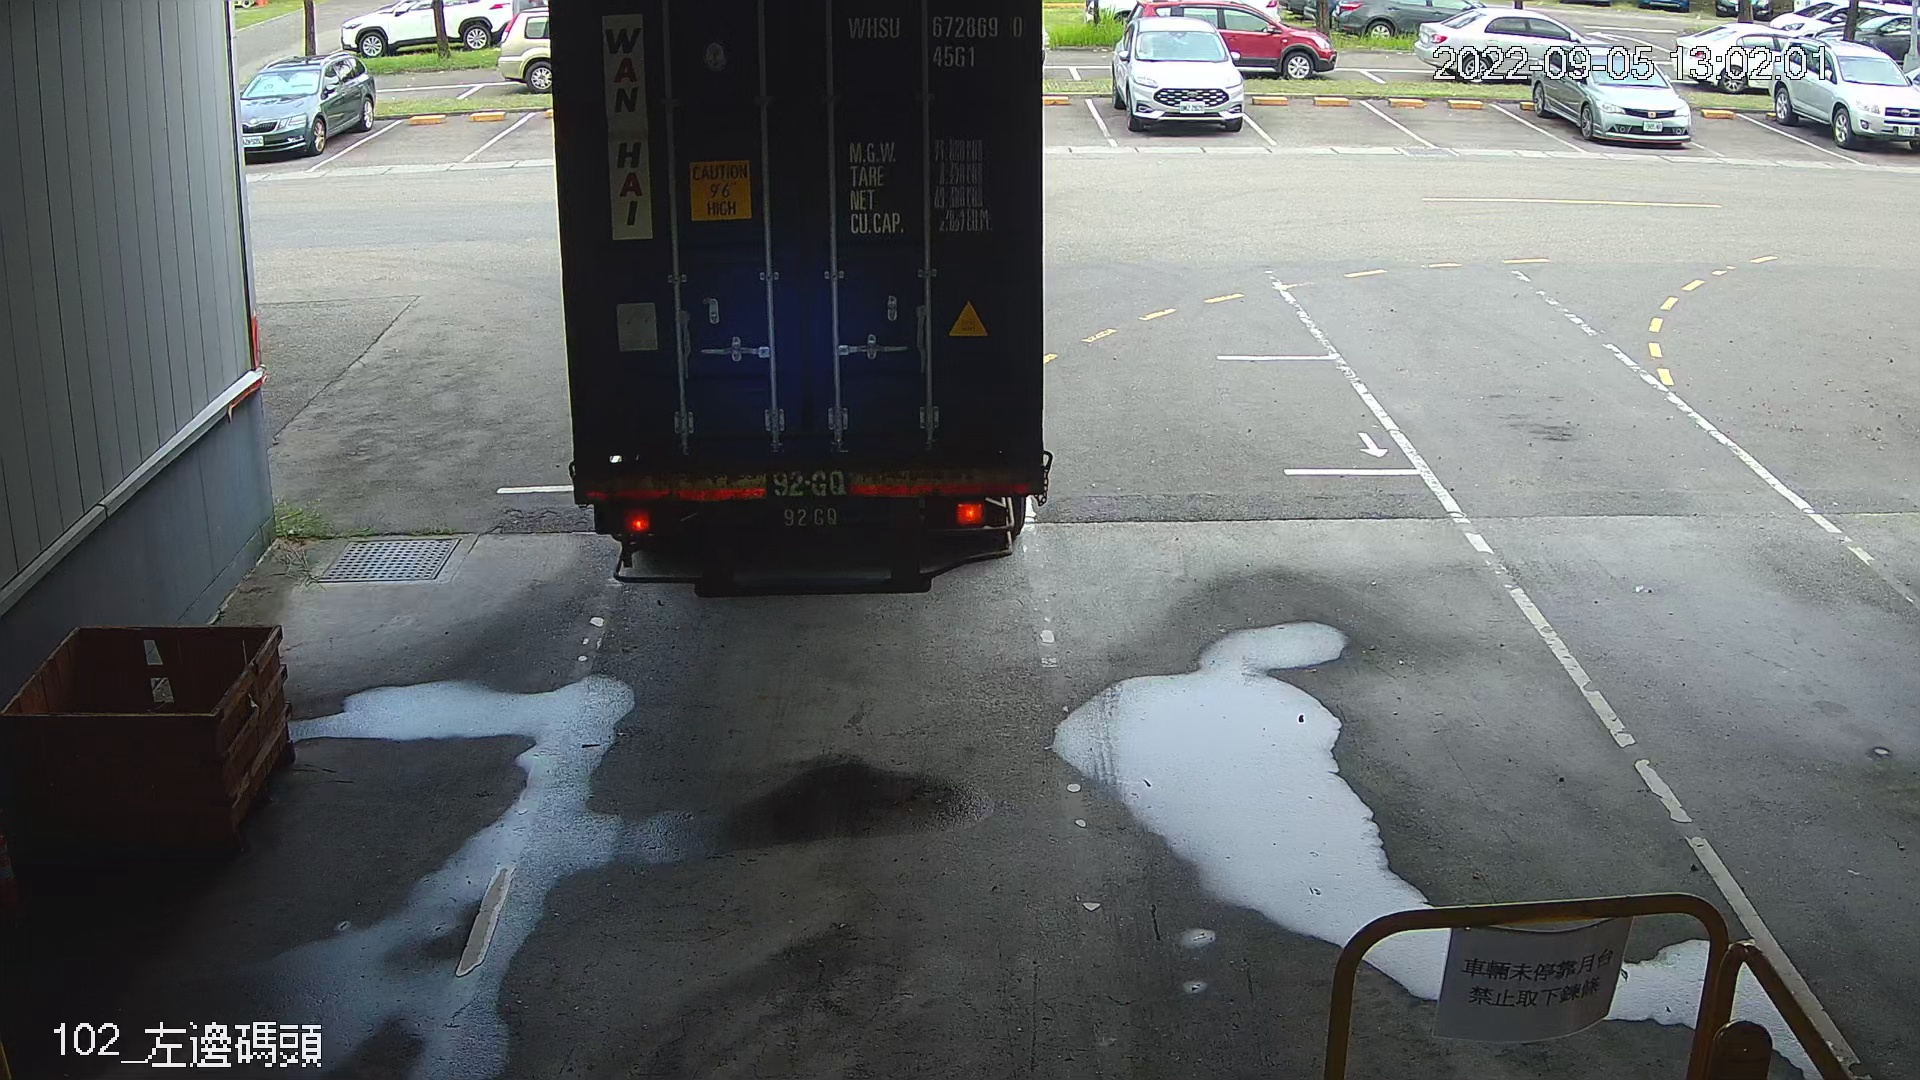container: (839, 4, 1033, 76)
